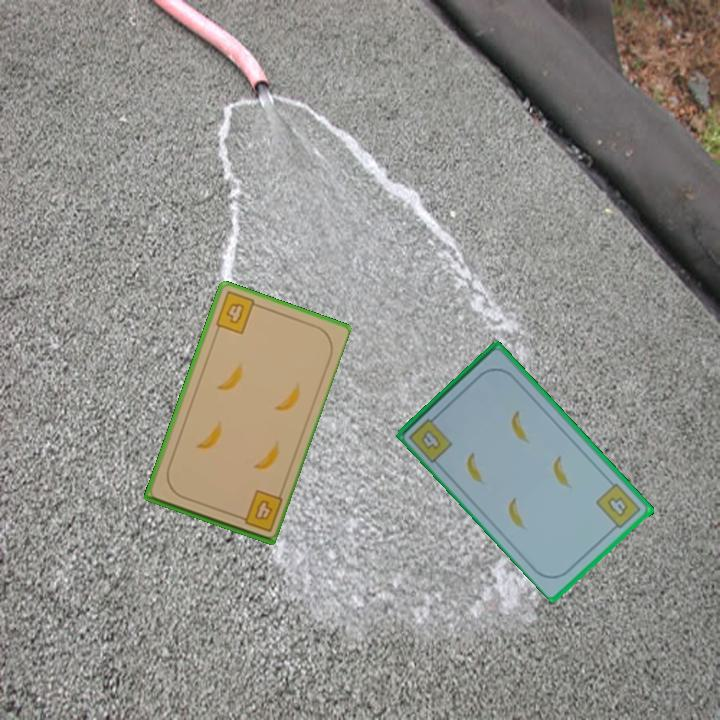4b: (593, 480, 645, 534), (405, 410, 456, 465), (232, 487, 285, 535), (212, 289, 263, 337)
